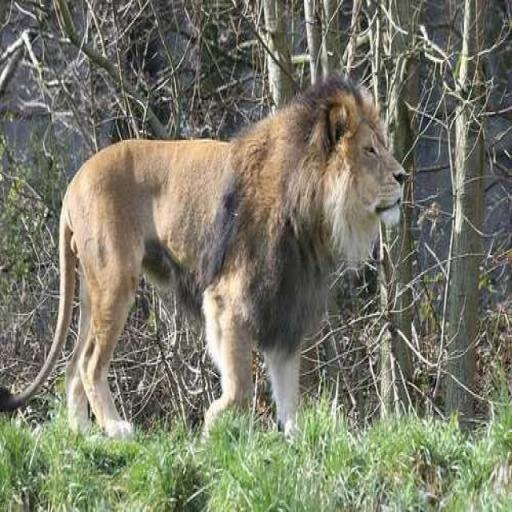Lion: (1, 71, 408, 446)
